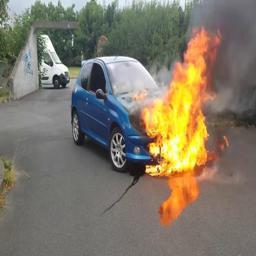fire: (133, 29, 221, 175)
